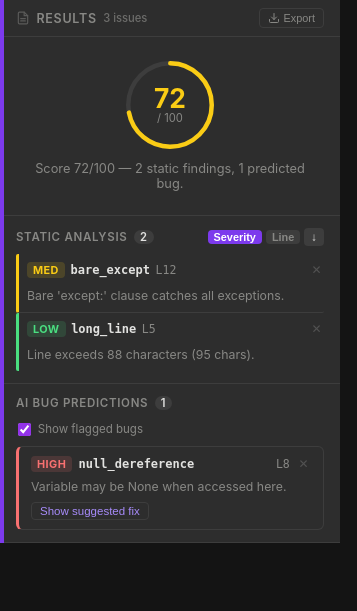
Test: ResultsPanel — predicted bugs section › expands suggested fix when toggle is clicked
Step 1. Click the button "Show suggested fix" → x=90, y=510, box [31,502,149,520]
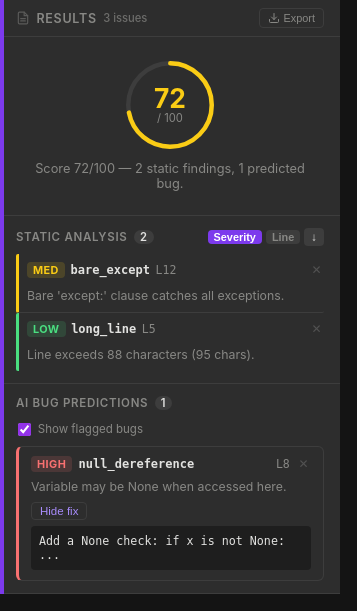
Check: the text "Add a None check: if x is not None: ..." is shown, box [31,526,311,570]
